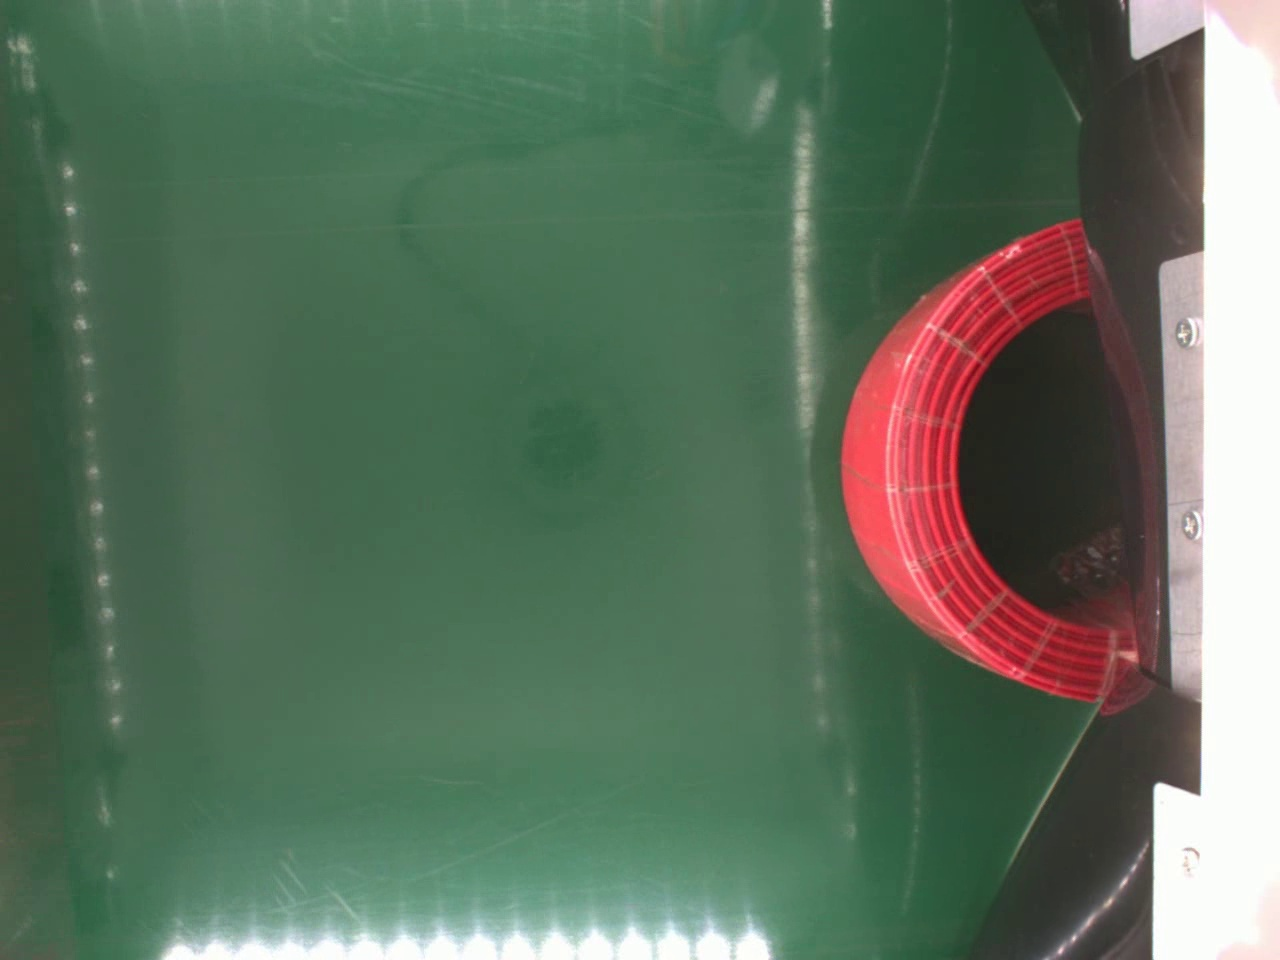red: (841, 218, 1137, 707)
